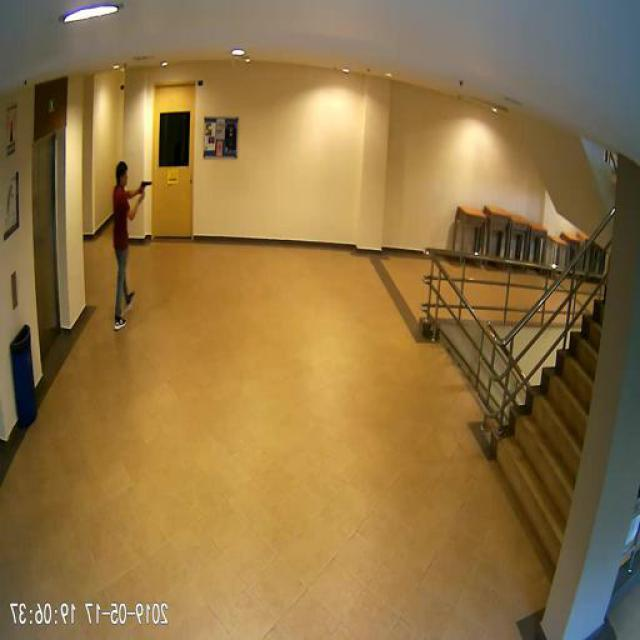Gun: (141, 178, 154, 192)
